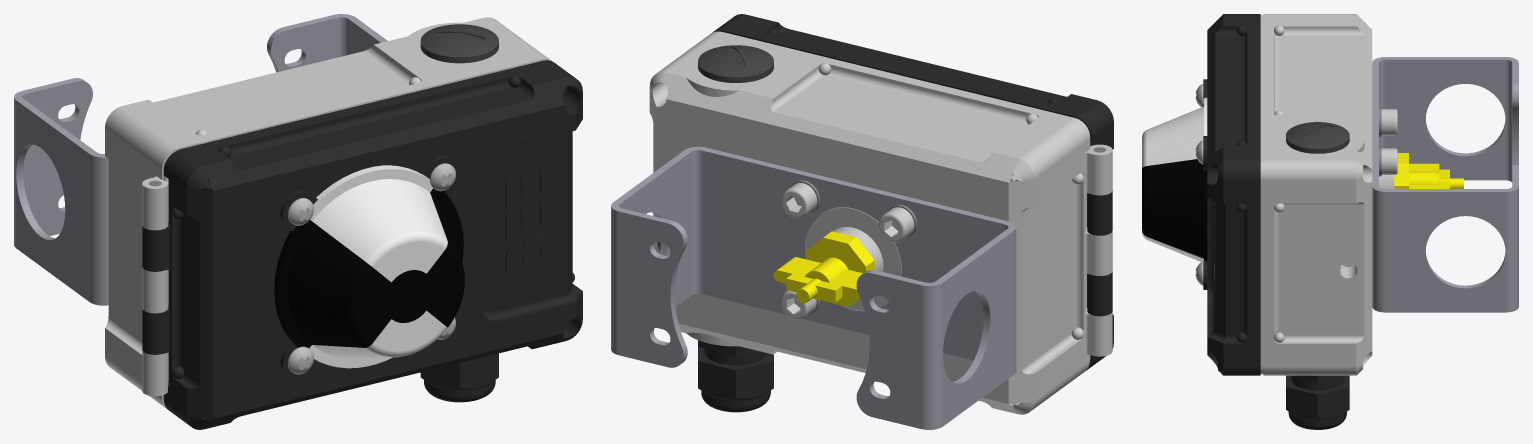
Rendered from lsb.glb.
The picture shows the model from 3 angles, left to right: view 1: azimuth 30°, elevation 25°; view 2: azimuth 150°, elevation 25°; view 3: azimuth 270°, elevation 25°; orthographic projection. The views are drawn at different scales.
Parts seen in each view (by area): view 1: =>[0:1:1:2], =>[0:1:1:27], =>[0:1:1:31], =>[0:1:1:15], =>[0:1:1:10], =>[0:1:1:9], =>[0:1:1:17], =>[0:1:1:3], =>[0:1:1:29], =>[0:1:1:30], =>[0:1:1:5], =>[0:1:1:7] (+1 smaller); view 2: =>[0:1:1:27], =>[0:1:1:31], =>[0:1:1:2], =>[0:1:1:26], =>[0:1:1:3], =>[0:1:1:29], =>[0:1:1:22], =>[0:1:1:25], =>[0:1:1:24], =>[0:1:1:30]; view 3: =>[0:1:1:27], =>[0:1:1:31], =>[0:1:1:2], =>[0:1:1:17], =>[0:1:1:3], =>[0:1:1:10], =>[0:1:1:26], =>[0:1:1:29], =>[0:1:1:30], =>[0:1:1:25], =>[0:1:1:22].
Boxes of the visible parts, x1=… form: =>[0:1:1:2]: x1=142, y1=60, x2=582, y2=429; =>[0:1:1:27]: x1=105, y1=17, x2=552, y2=409; =>[0:1:1:31]: x1=14, y1=14, x2=387, y2=305; =>[0:1:1:15]: x1=274, y1=220, x2=391, y2=348; =>[0:1:1:10]: x1=310, y1=165, x2=447, y2=282; =>[0:1:1:9]: x1=309, y1=310, x2=447, y2=368; =>[0:1:1:17]: x1=426, y1=188, x2=464, y2=327; =>[0:1:1:3]: x1=420, y1=353, x2=498, y2=402; =>[0:1:1:29]: x1=420, y1=24, x2=498, y2=57; =>[0:1:1:30]: x1=420, y1=33, x2=498, y2=63; =>[0:1:1:5]: x1=430, y1=163, x2=455, y2=191; =>[0:1:1:7]: x1=287, y1=346, x2=313, y2=374; =>[0:1:1:27]: x1=649, y1=31, x2=1112, y2=414; =>[0:1:1:31]: x1=611, y1=146, x2=1016, y2=429; =>[0:1:1:2]: x1=712, y1=14, x2=1113, y2=370; =>[0:1:1:26]: x1=773, y1=231, x2=874, y2=306; =>[0:1:1:3]: x1=698, y1=340, x2=773, y2=412; =>[0:1:1:29]: x1=698, y1=45, x2=773, y2=77; =>[0:1:1:22]: x1=878, y1=207, x2=914, y2=242; =>[0:1:1:25]: x1=781, y1=183, x2=817, y2=218; =>[0:1:1:24]: x1=781, y1=290, x2=816, y2=319; =>[0:1:1:30]: x1=698, y1=49, x2=773, y2=82; =>[0:1:1:27]: x1=1260, y1=14, x2=1394, y2=375; =>[0:1:1:31]: x1=1372, y1=57, x2=1518, y2=312; =>[0:1:1:2]: x1=1203, y1=14, x2=1260, y2=375; =>[0:1:1:17]: x1=1142, y1=159, x2=1207, y2=261; =>[0:1:1:3]: x1=1286, y1=375, x2=1349, y2=429; =>[0:1:1:10]: x1=1142, y1=97, x2=1207, y2=168; =>[0:1:1:26]: x1=1394, y1=153, x2=1463, y2=188; =>[0:1:1:29]: x1=1286, y1=122, x2=1349, y2=148; =>[0:1:1:30]: x1=1286, y1=126, x2=1349, y2=153; =>[0:1:1:25]: x1=1381, y1=148, x2=1397, y2=174; =>[0:1:1:22]: x1=1381, y1=109, x2=1397, y2=135.
Size of the model in its own units: 0.148 by 0.1202 by 0.1415.
